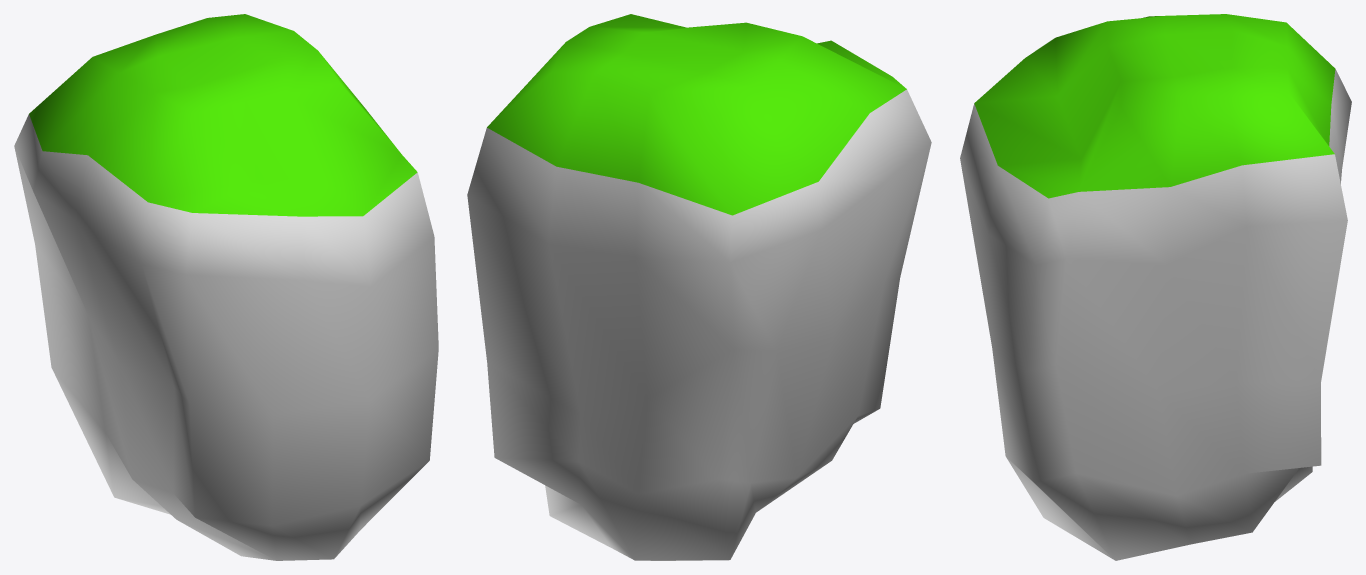
Rendered from FlyingRock01.fbx.
The picture shows the model from 3 angles, left to right: view 1: azimuth 30°, elevation 25°; view 2: azimuth 150°, elevation 25°; view 3: azimuth 270°, elevation 25°; orthographic projection. The views are drawn at different scales.
Visible parts, largest first — view 1: Cube; view 2: Cube; view 3: Cube.
Part boxes in pixels (<box>): Cube: <box>14,14,438,560</box>; Cube: <box>467,14,931,560</box>; Cube: <box>960,14,1351,560</box>.
Size of the model in its own units: 2925 by 4174 by 3203.
